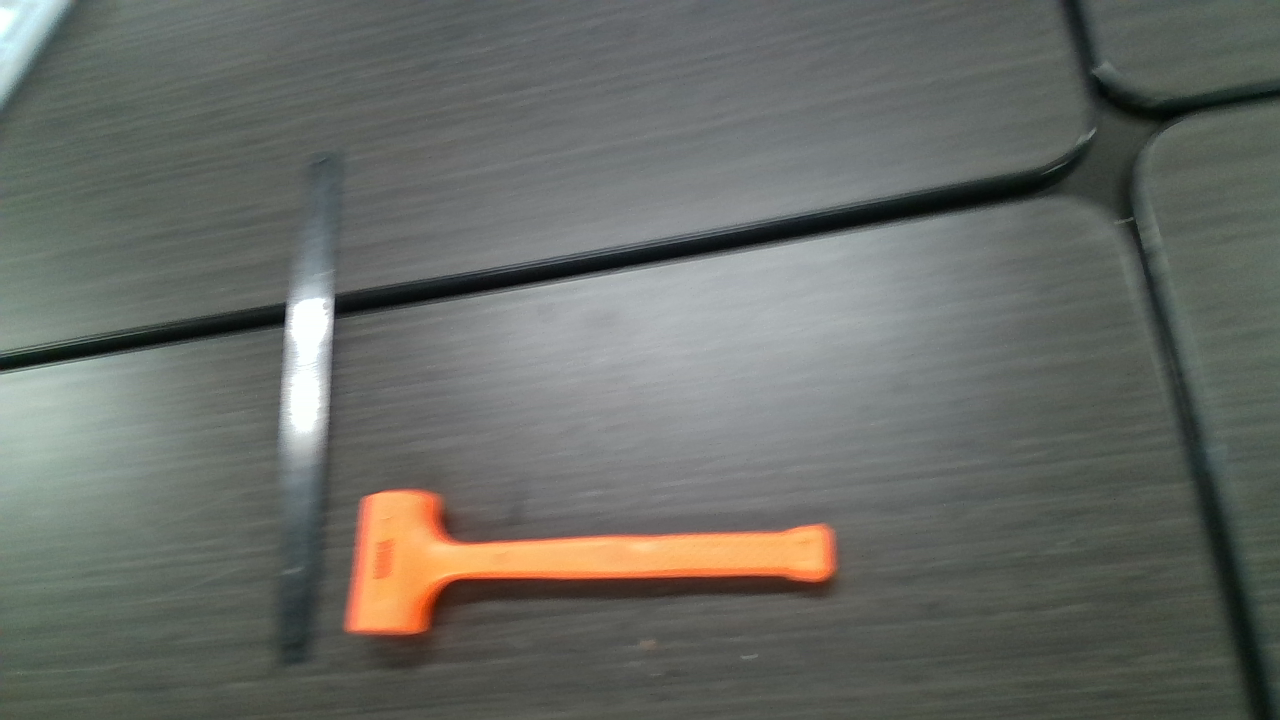Orange Hammer: (348, 492, 841, 635)
